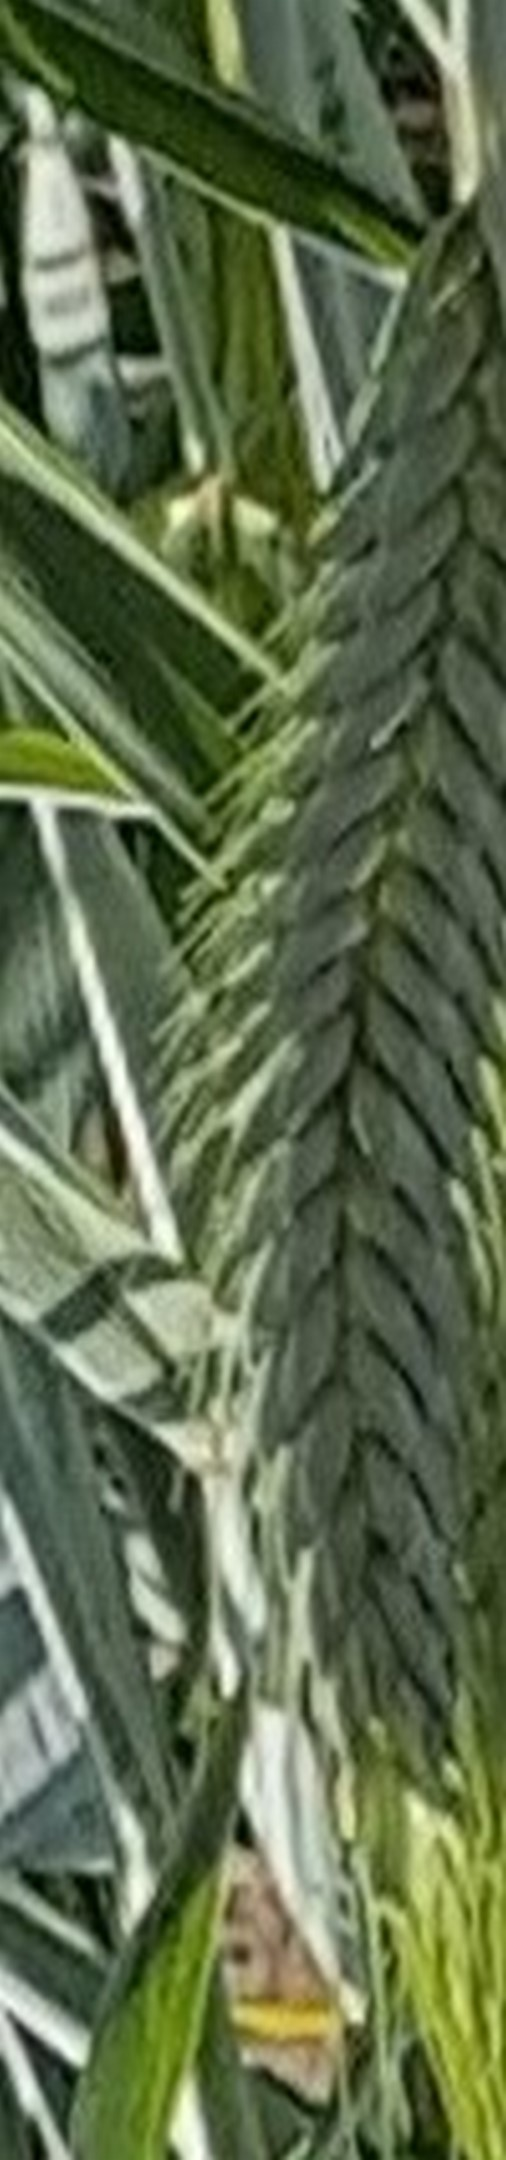Healthy Wheat: (192, 225, 506, 1796)
